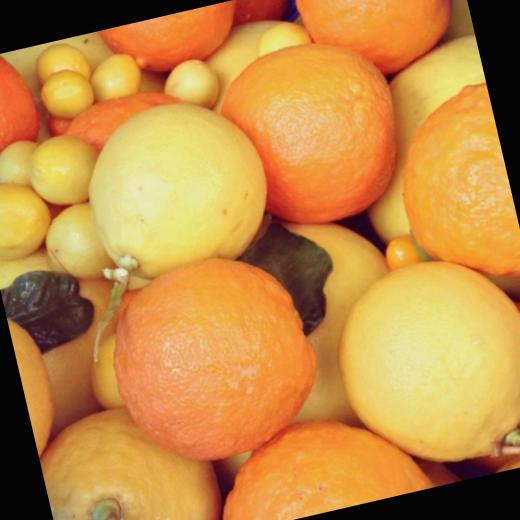Grape: (94, 239, 333, 477), (209, 25, 417, 240), (381, 79, 520, 300), (201, 396, 434, 520), (31, 387, 229, 520), (291, 0, 464, 91), (96, 0, 247, 85), (58, 80, 191, 160), (0, 48, 51, 190), (234, 0, 295, 29)
